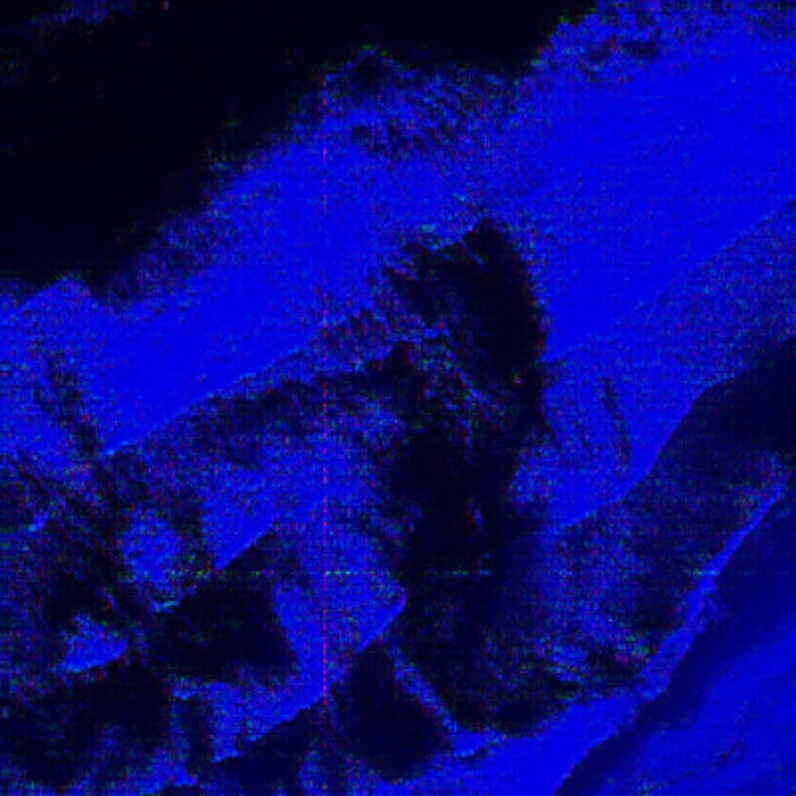rip_current: (308, 168, 627, 767)
